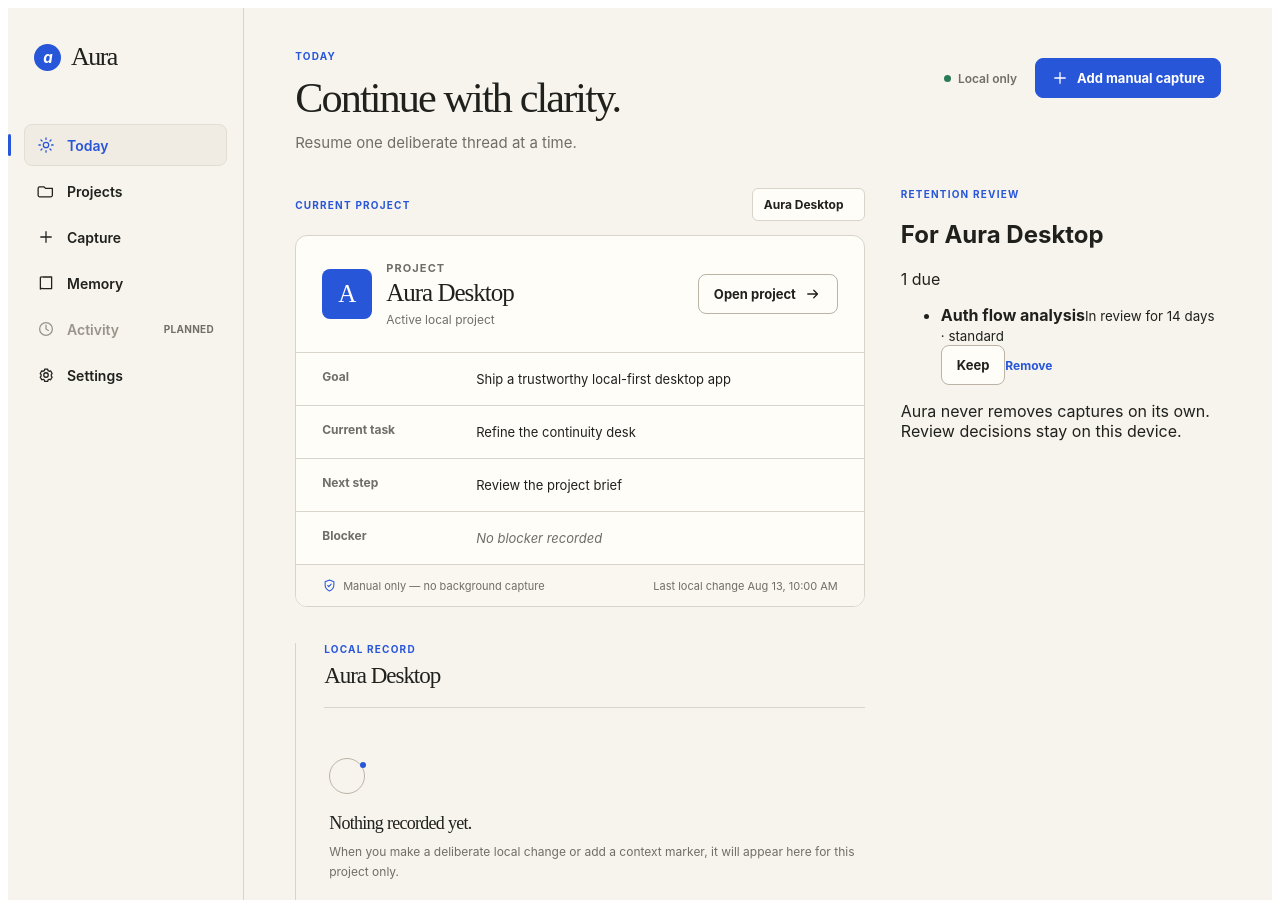
Aura retention review (EXP-003) › keeps a reviewed capture through the typed native command
Expected: the text "Auth flow analysis" is shown, [941,305,1085,325]
What coordinates should you click on to do the following:
click the button with aria-label "Keep Auth flow analysis"
I would click on:
 (973, 365)
Its box is [941,345,1005,385].
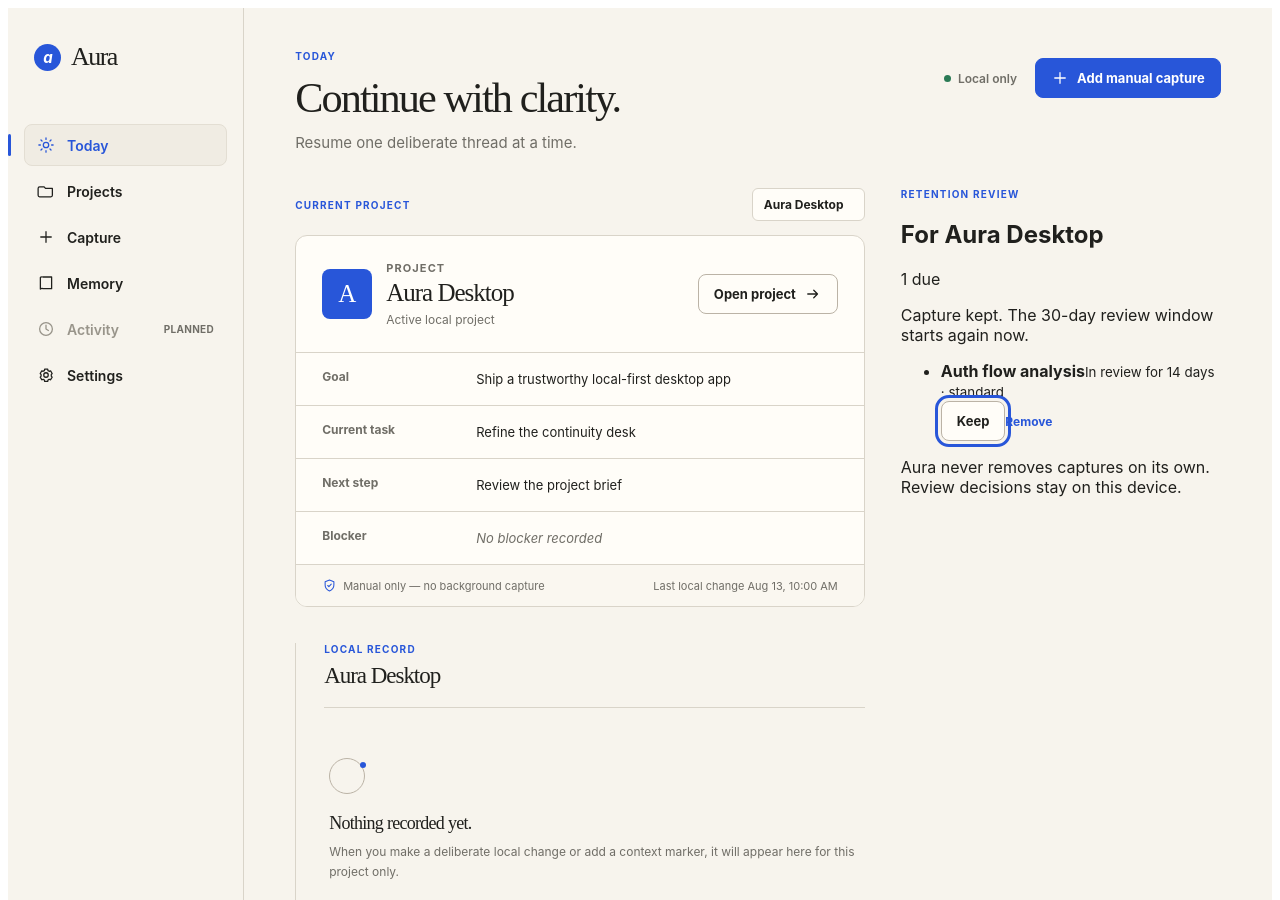
Result: the text "Capture kept. The 30-day review window starts again now." is shown at [901,305,1221,345]
